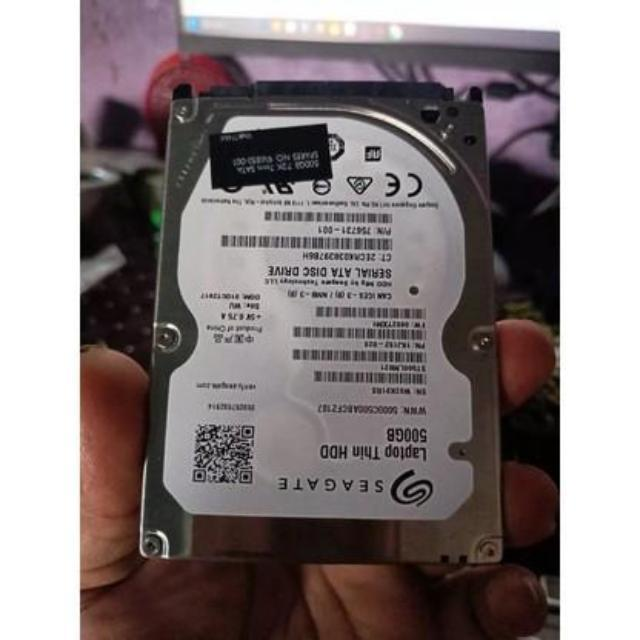DISK: (142, 65, 502, 572)
